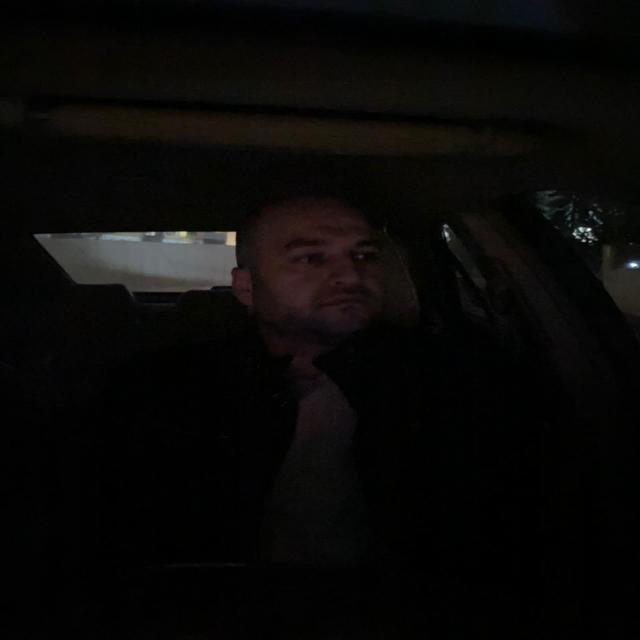LeftRight: (221, 176, 401, 351)
